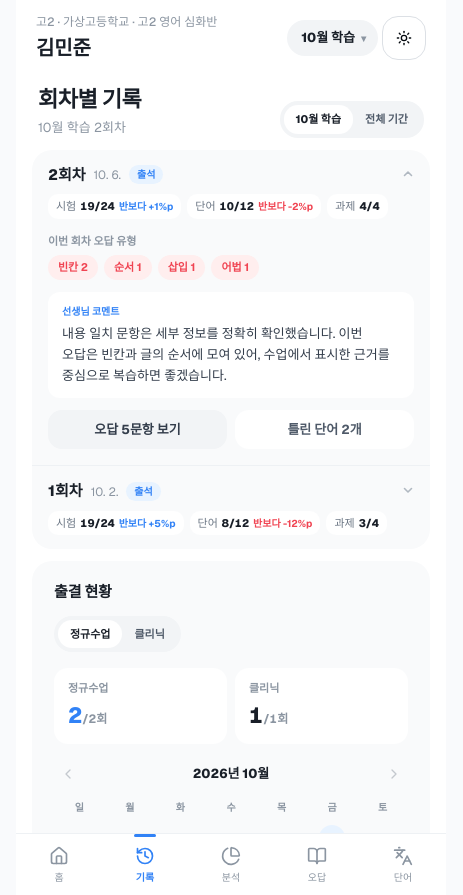
Test: 공유 리포트 실제 화면 재사용 › 전체 기간을 주입받은 기록 탭은 API 없이 전체 회차를 조회한다
Expected: the text "10월 학습 2회차" is shown, [38,119,126,136]
Click the button "전체 기간": (387, 119) [353,105,420,134]
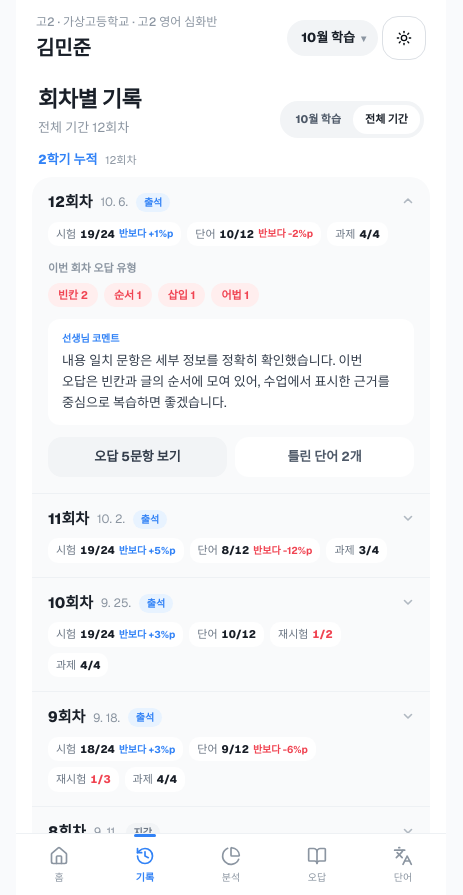
Result: the text "전체 기간 12회차" is shown at [38,118,141,138]
Result: the button "12회차 10. 6. 출석 시험 19/24 반보다 +1%p 단어 10/12 반보다 -2%p 과제 4/4" is shown at [32,177,430,260]
